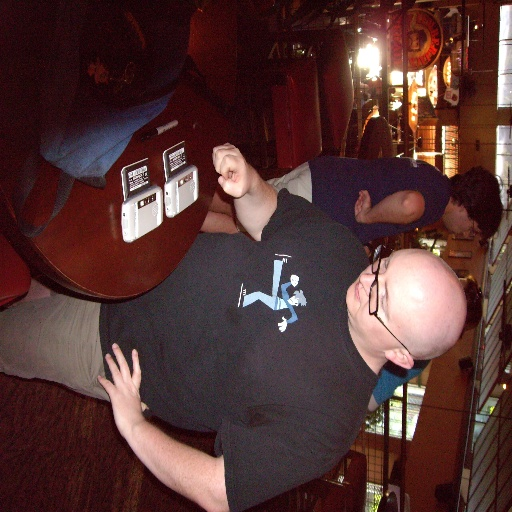hand: (97, 352, 149, 439), (211, 142, 252, 199), (352, 189, 373, 224)
